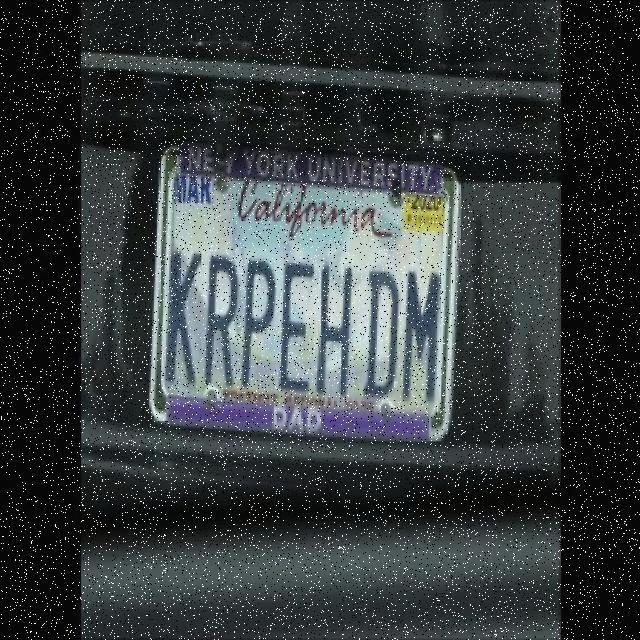licenseplate: (152, 134, 453, 440)
